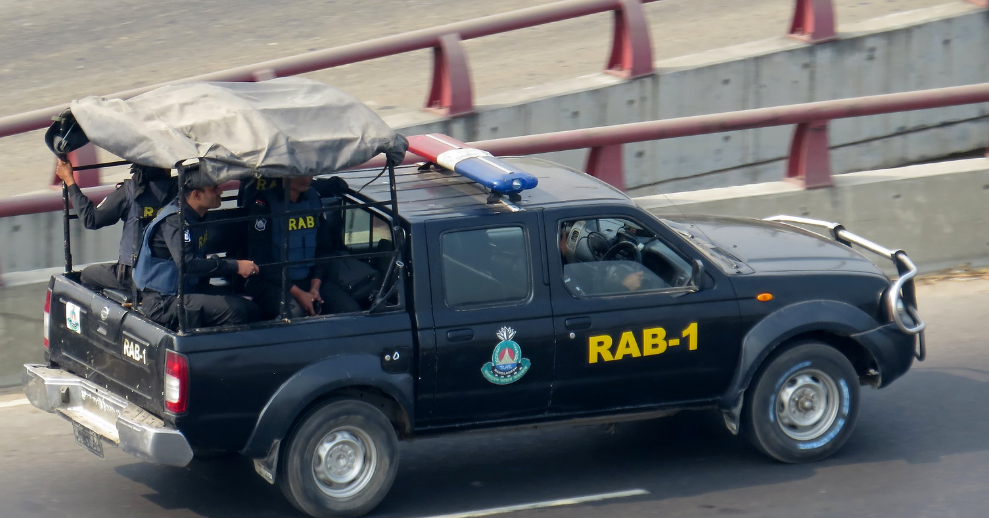Police cars: (46, 75, 934, 515)
